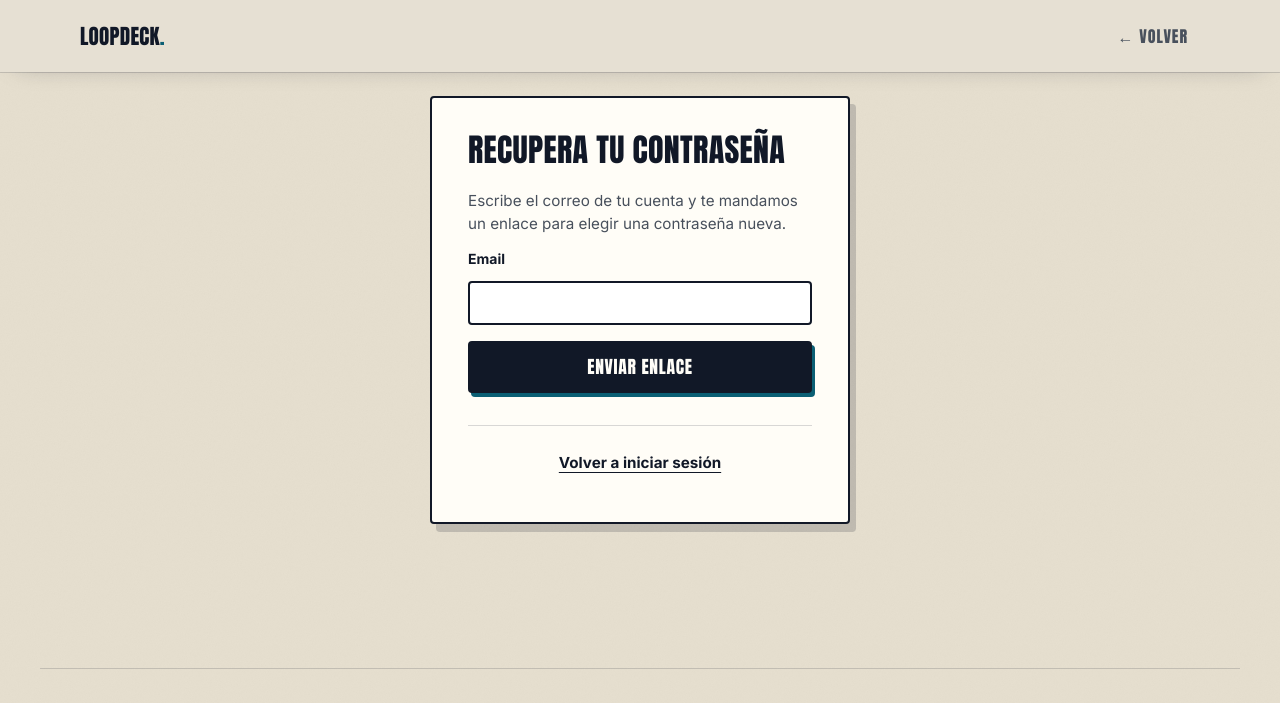
Test: ForgotPasswordPage › tells the user to wait when the rate limit answers 429
The image size is (1280, 703).
In the field labelled "Email": (640, 303) left=468, top=281, right=812, bottom=325, type "ana@example.com"
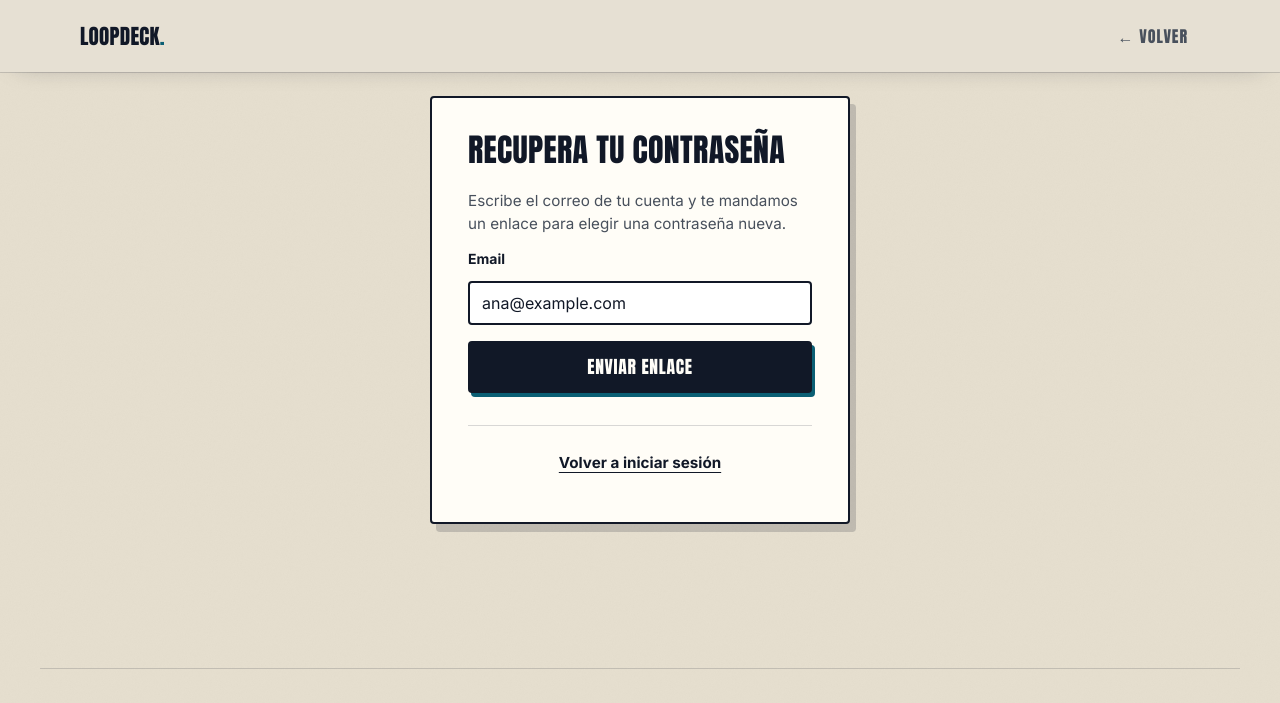
Click the button "Enviar enlace": (640, 367) left=468, top=341, right=812, bottom=393
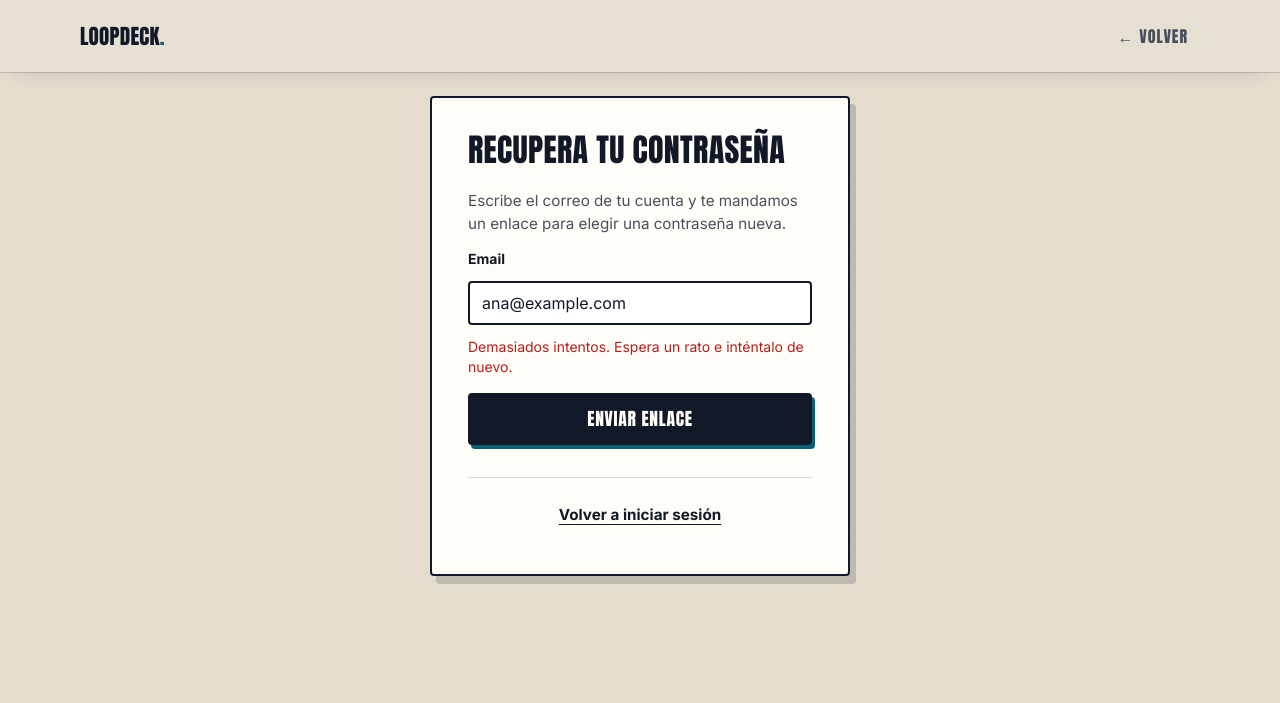
Expected: the message shows "Demasiados intentos", left=468, top=338, right=804, bottom=375
